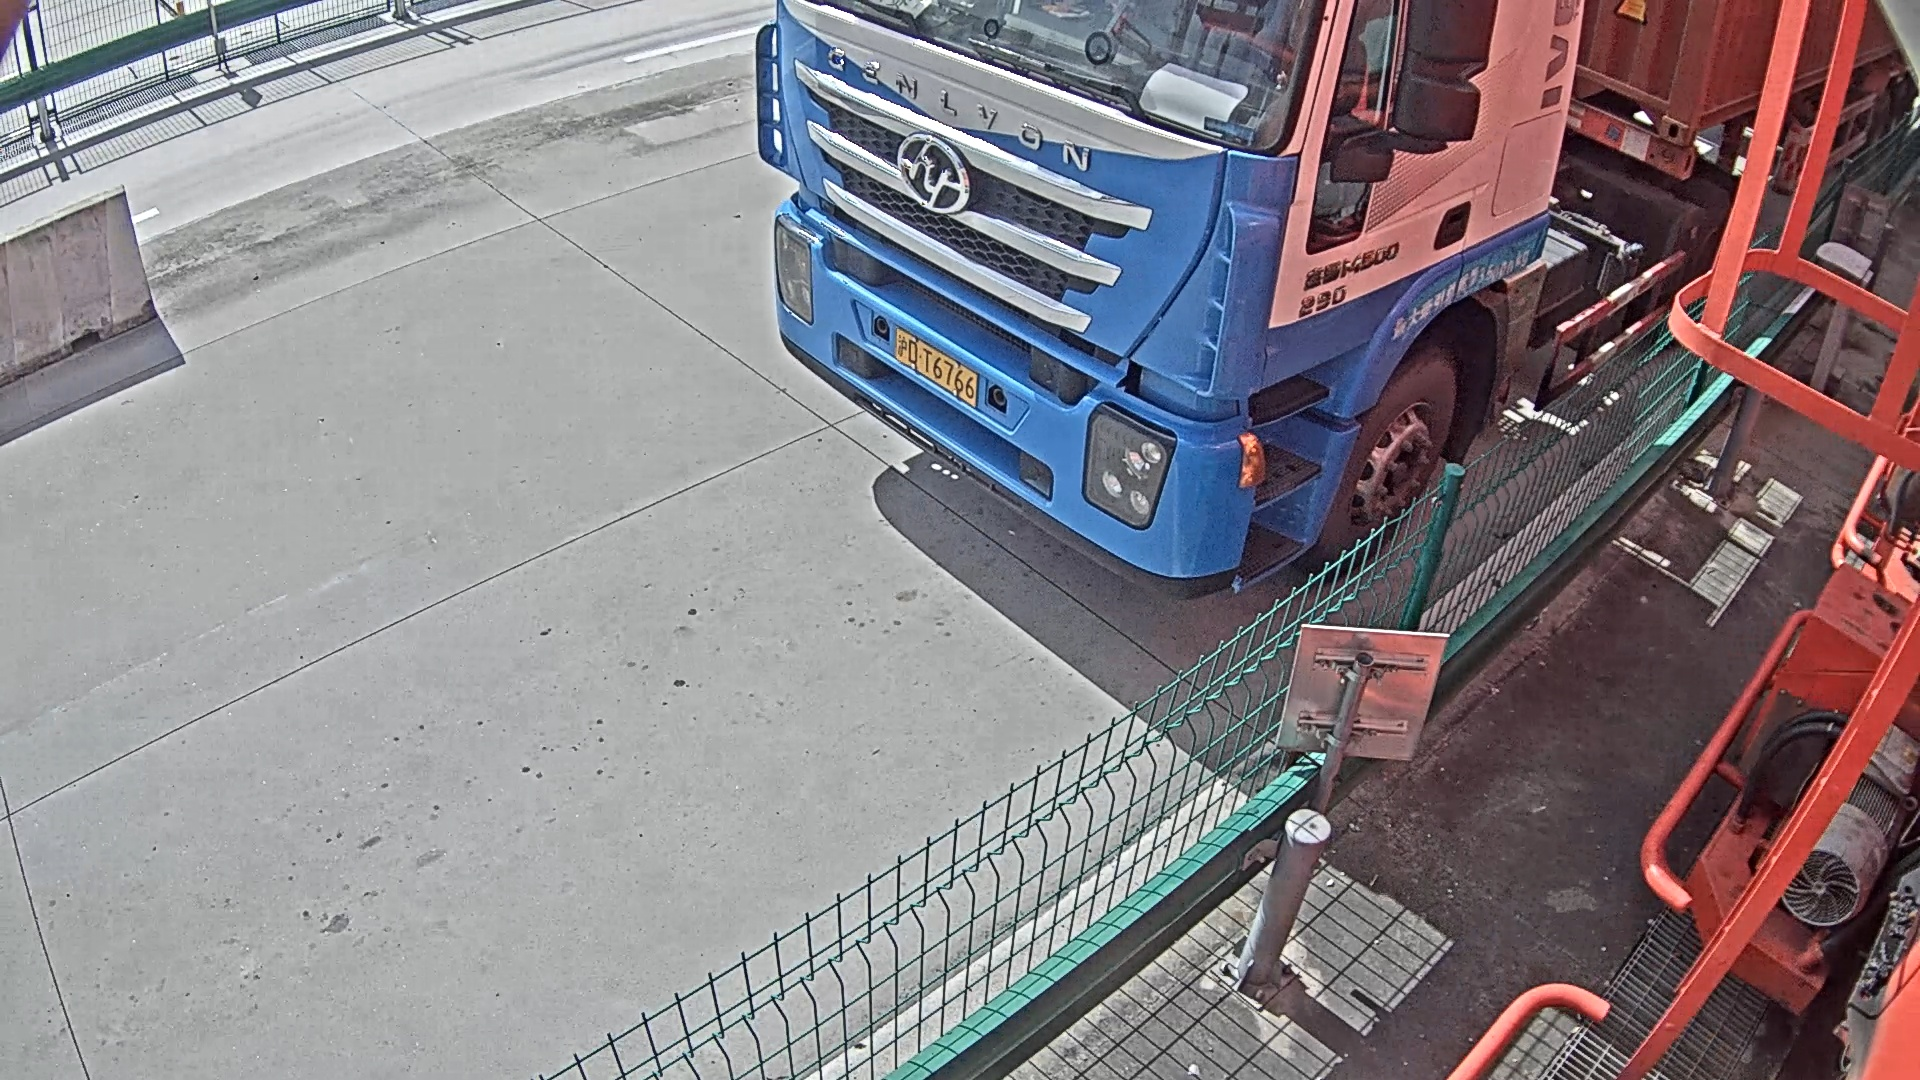head: (761, 1, 1562, 583)
plate: (886, 323, 980, 411)
